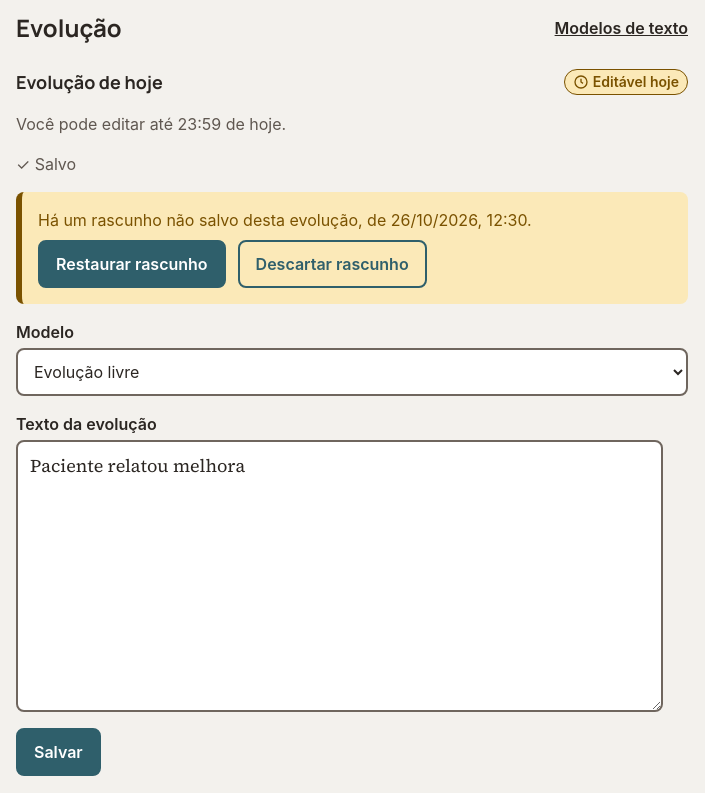
it: Rascunho oferecido depois da sessão expirar (RAS-04) › descartar mantém o texto da evolução e fecha o aviso
Click the button "Descartar rascunho". click: [332, 264]
box: [238, 240, 427, 288]
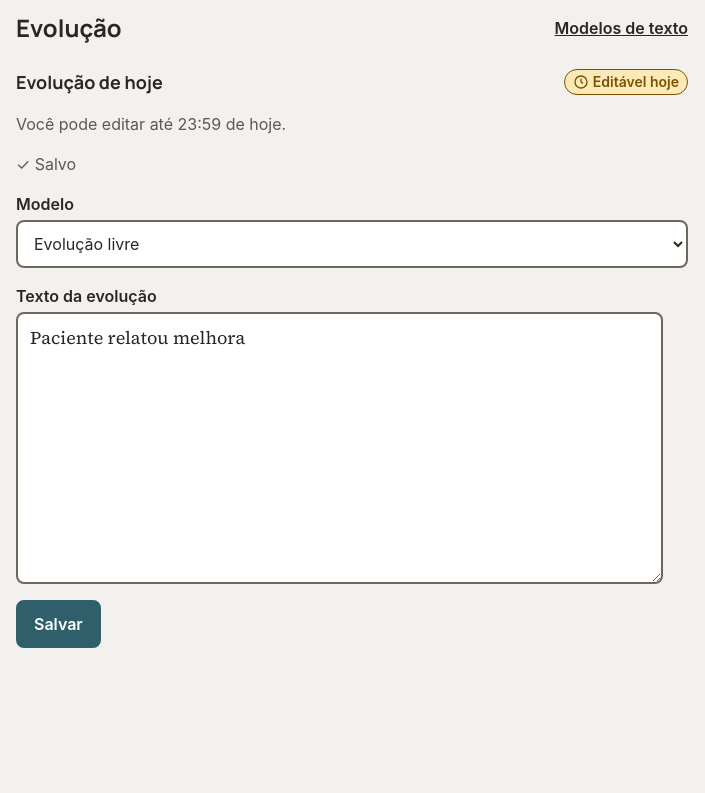
Expected: the text box labelled "Texto da evolução" holds "Paciente relatou melhora", [16, 312, 664, 584]
Now the text "Há um rascunho não salvo" is gone
